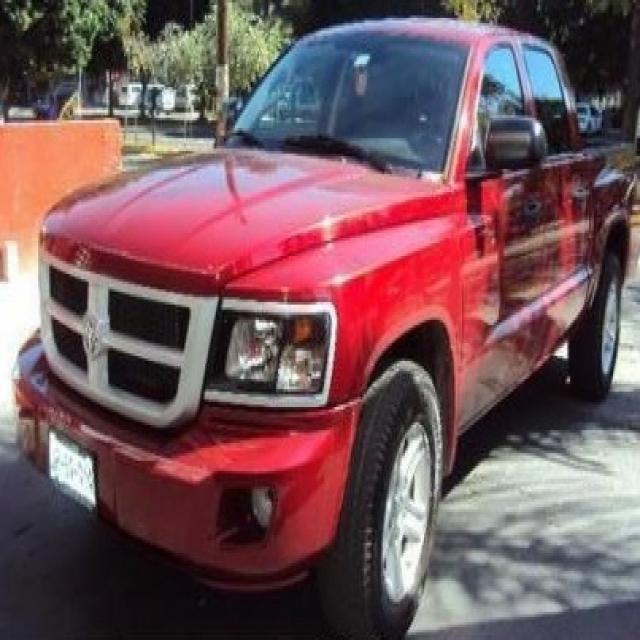CMT: (34, 18, 639, 618)
